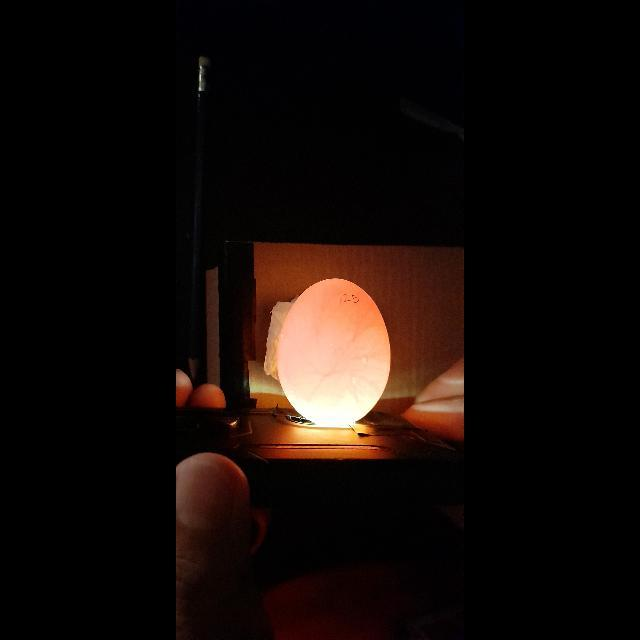Fertile: (272, 277, 393, 429)
